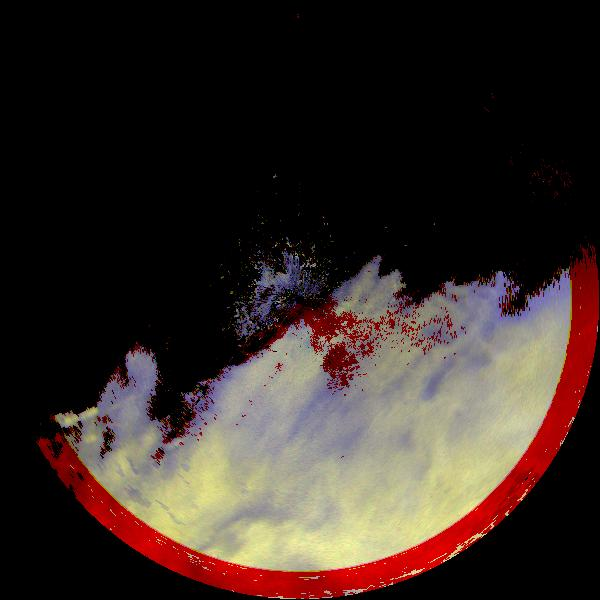roost: (270, 172, 282, 184)
